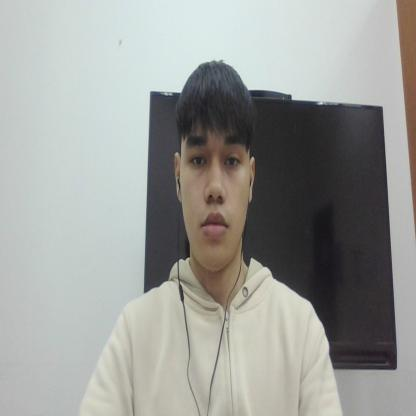Open-Eyes: (181, 133, 249, 180)
